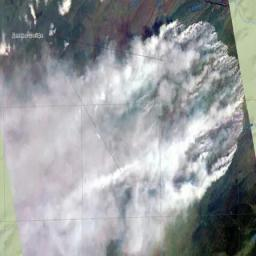Heavy smoke: (1, 21, 256, 256)
